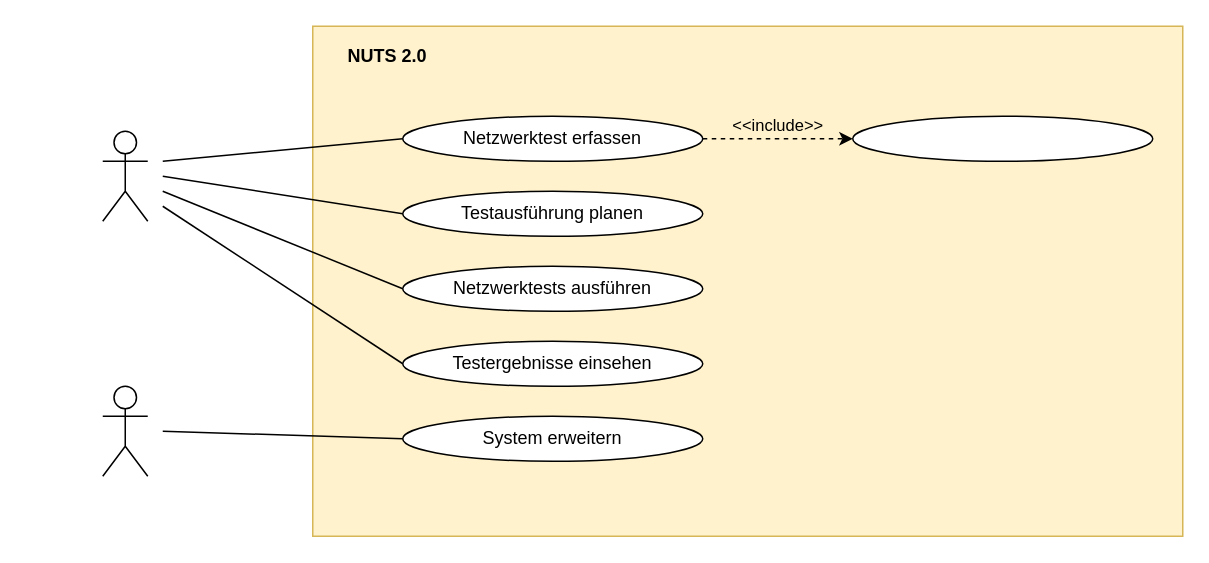
The diagram is 1209 pixels wide and 563 high, and some of its shapes have lost their labels. The box of each missing label's shape, as (x1, y1, x2, y2) in pixels:
Administrator & Engineer: (101, 130, 148, 221)
Engineer: (101, 385, 148, 476)
Inventar CRUD: (851, 115, 1153, 161)
